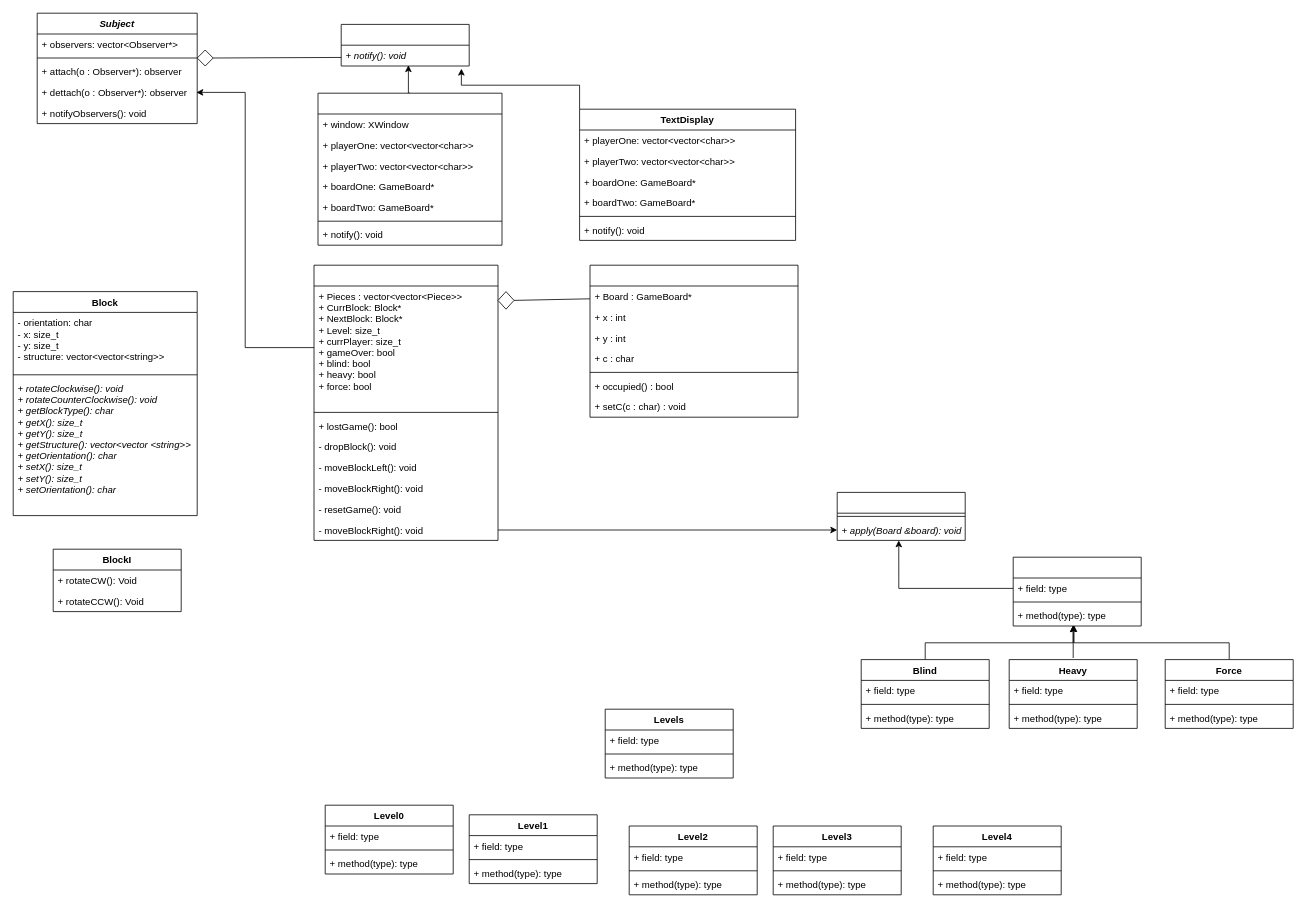
The diagram is 1306 pixels wide and 908 high, and some of its shapes have lost their labels. Each missing label, with the box of its shape:
AbsBoard: (836, 492, 965, 540)
Decorator: (1012, 556, 1141, 626)
GameBoard: (313, 264, 498, 540)
GraphicDisplay: (317, 92, 502, 245)
Observer: (340, 24, 469, 66)
Piece: (589, 264, 798, 417)
